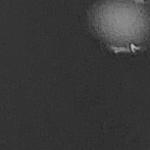colony: (75, 0, 150, 59)
